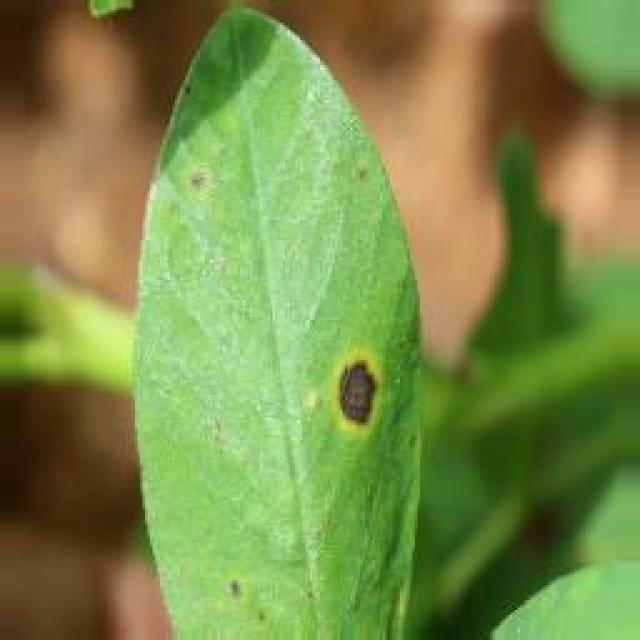Sigatoka: (292, 314, 407, 450), (154, 142, 235, 238), (205, 575, 273, 640), (348, 156, 393, 219)
